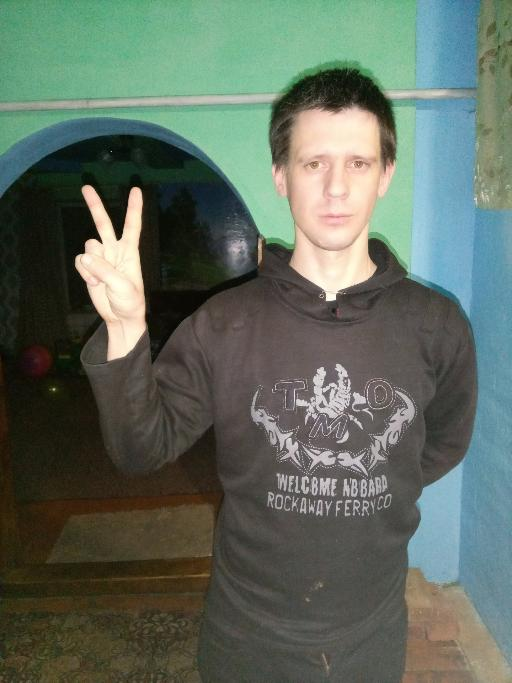peace: (70, 180, 149, 327)
